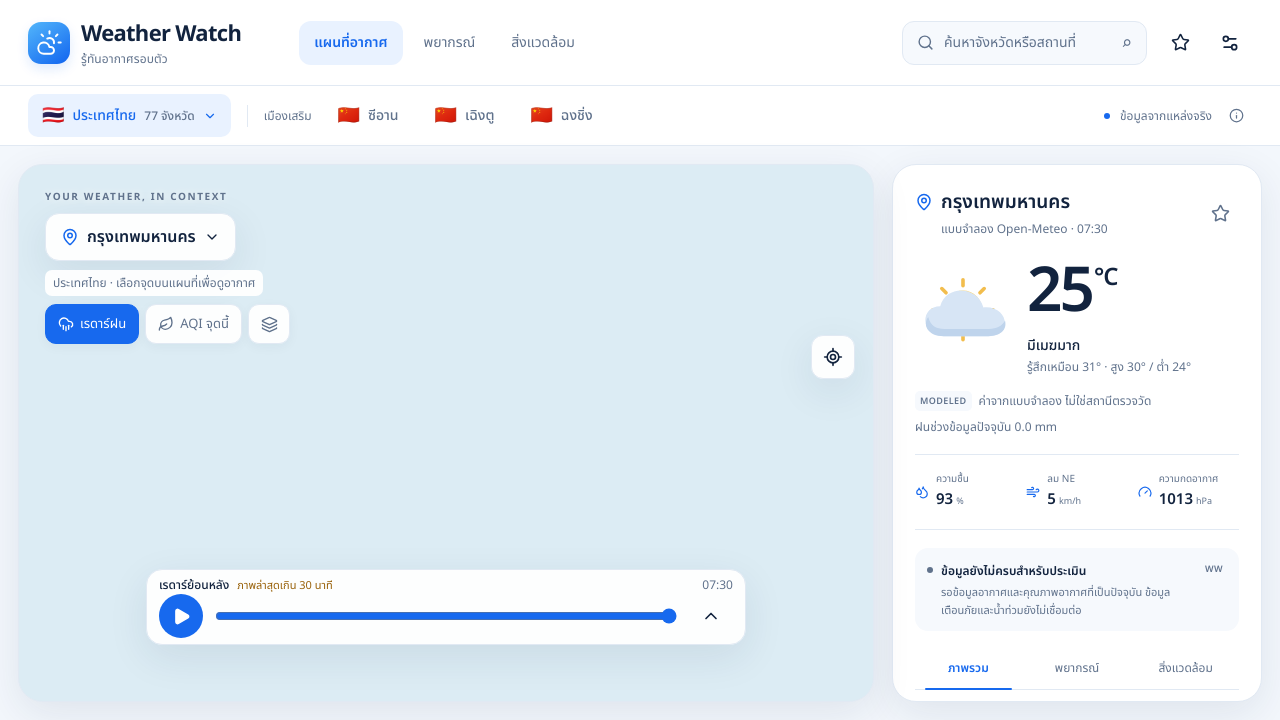
Scenario: App regressions › location switching changes provider coordinates and timezone, without Thai alert logic in China
Expected: the element with test id "temperature" is shown, [1027,244,1118,338]
What coordinates should you click on to do the following:
click the button "🇨🇳 ซีอาน"
I would click on:
 (368, 116)
Its box is [324,94,413,137].
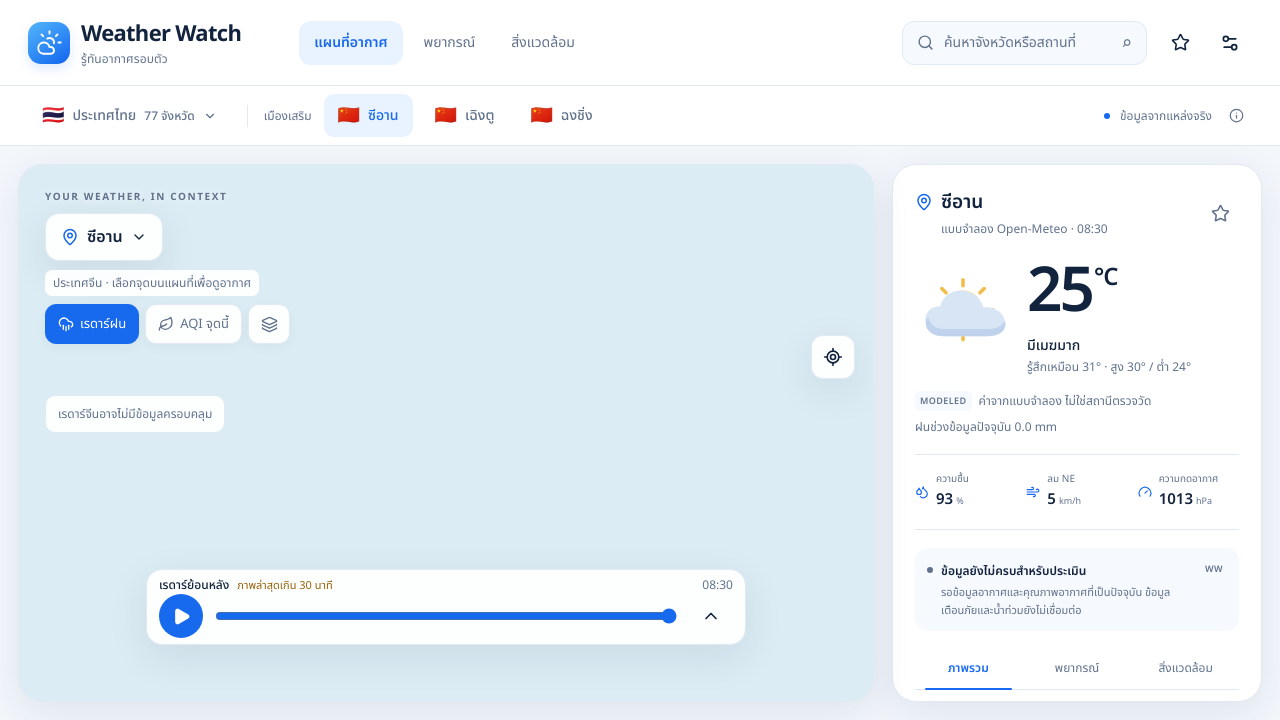
Expected: the heading "ซีอาน" is shown, [941,188,983,217]
What coordinates should you click on to do the following:
click the button "สิ่งแวดล้อม" in the row of "Weather Watch"
I would click on:
 (543, 42)
Its box is [496,20,590,64].
(page scrolled)
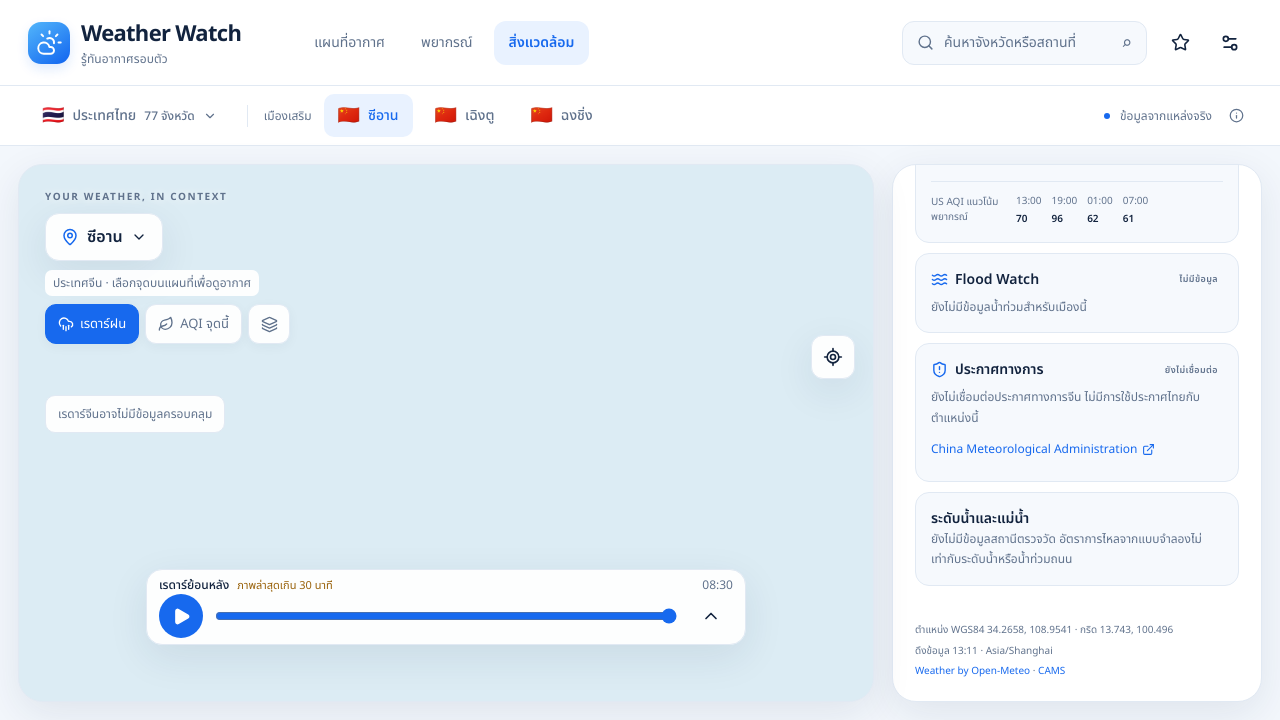
Expected: the link "China Meteorological Administration" is shown, [931,440,1155,458]
